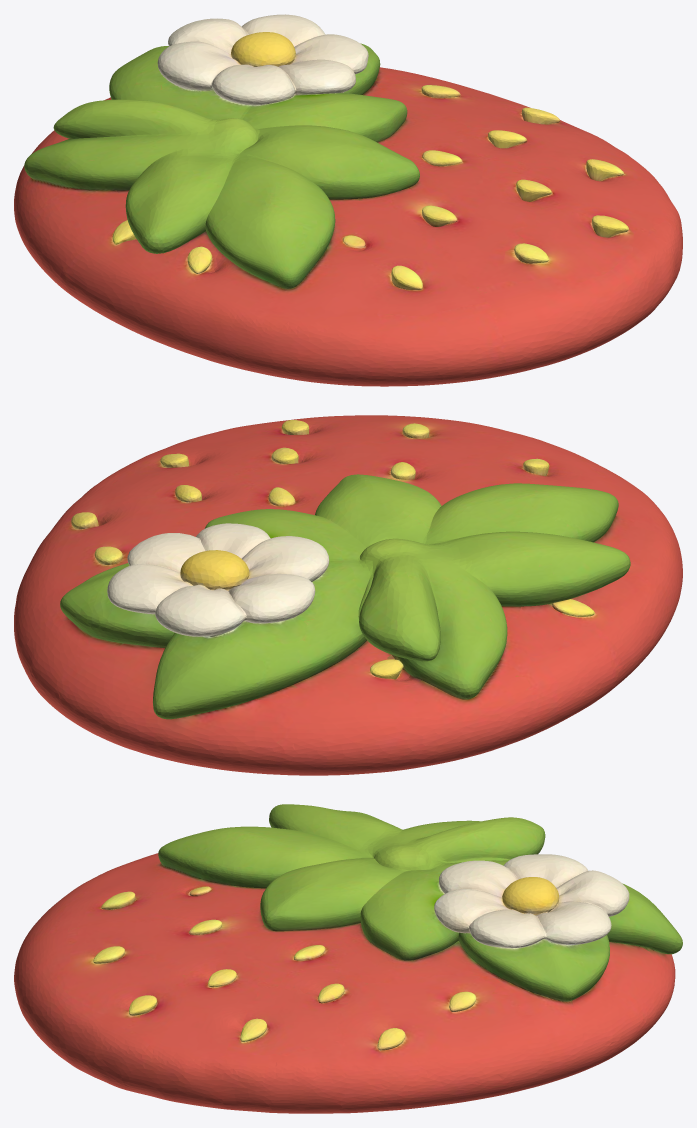
The picture shows the model from 3 angles, top to bottom: view 1: azimuth 30°, elevation 25°; view 2: azimuth 150°, elevation 25°; view 3: azimuth 270°, elevation 25°; orthographic projection. The views are drawn at different scales.
Visible parts, largest first — view 1: tripo_node_263e5839-03e1-4c58-8616-aae289bcd32b; view 2: tripo_node_263e5839-03e1-4c58-8616-aae289bcd32b; view 3: tripo_node_263e5839-03e1-4c58-8616-aae289bcd32b.
Part boxes in pixels (bbox=[...]): tripo_node_263e5839-03e1-4c58-8616-aae289bcd32b: bbox=[14, 14, 682, 386]; tripo_node_263e5839-03e1-4c58-8616-aae289bcd32b: bbox=[14, 415, 682, 775]; tripo_node_263e5839-03e1-4c58-8616-aae289bcd32b: bbox=[14, 804, 682, 1113].
Size of the model in its own units: 0.8407 by 0.2298 by 0.98.
1 material, 1 textured.
